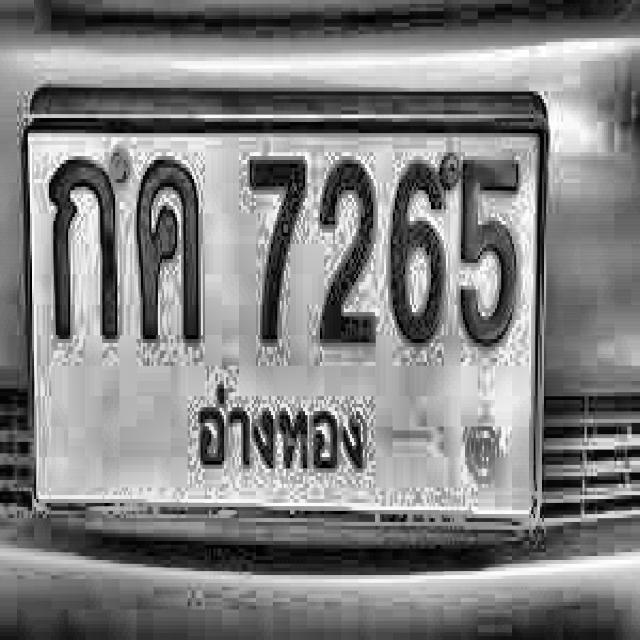license-plate: (16, 87, 559, 575)
